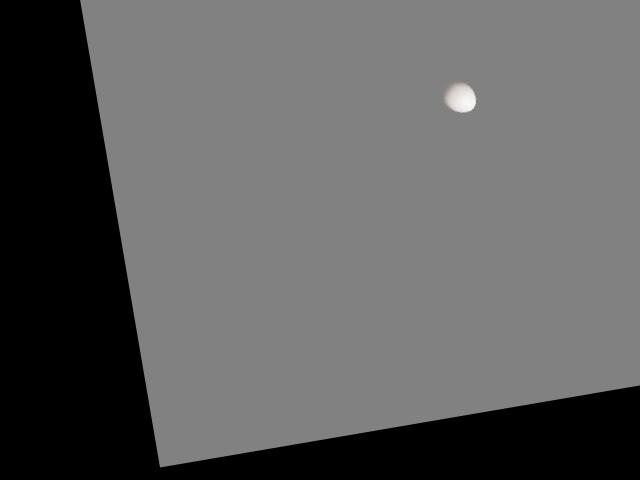egg: (439, 78, 477, 115)
